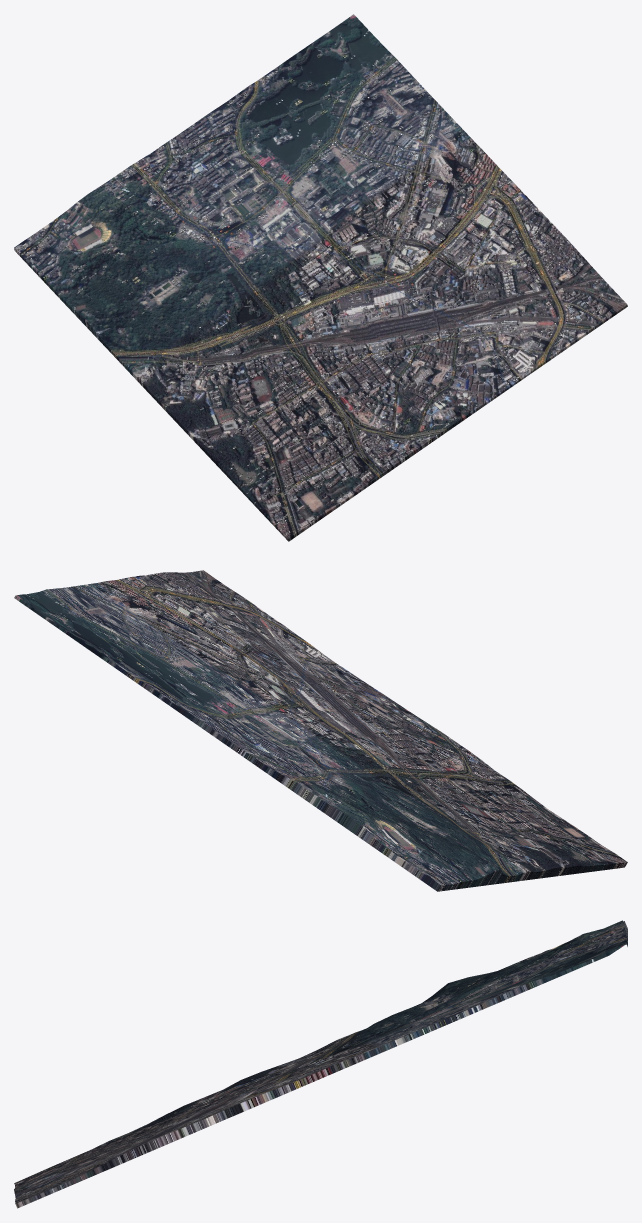
3 renders of one model, top to bottom at view 1: azimuth 30°, elevation 25°; view 2: azimuth 150°, elevation 25°; view 3: azimuth 270°, elevation 25°, orthographic. The views are drawn at different scales.
Parts seen in each view (by area): view 1: 2_1_2; view 2: 2_1_2; view 3: 2_1_2.
Part boxes in pixels (bbox=[...]): 2_1_2: bbox=[14, 14, 627, 541]; 2_1_2: bbox=[14, 570, 627, 891]; 2_1_2: bbox=[14, 920, 627, 1208].
Bounding box in the file's own units: 2456 × 1779 × 2250.
1 material, 1 textured.
